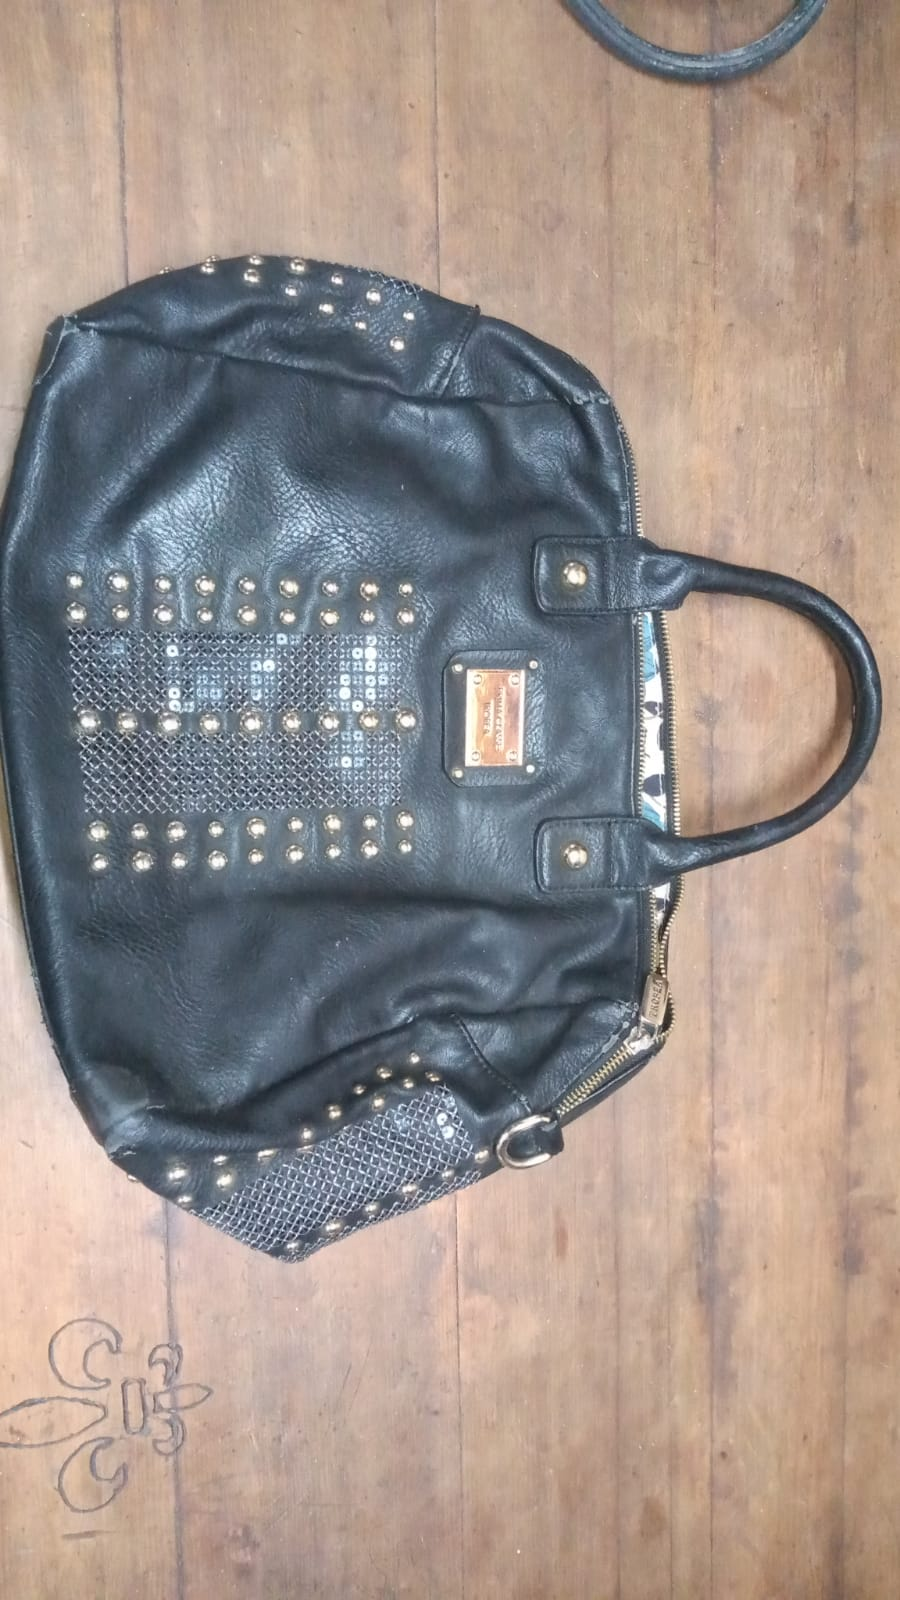cartera: (2, 226, 900, 1269)
cuero: (5, 251, 686, 1264)
